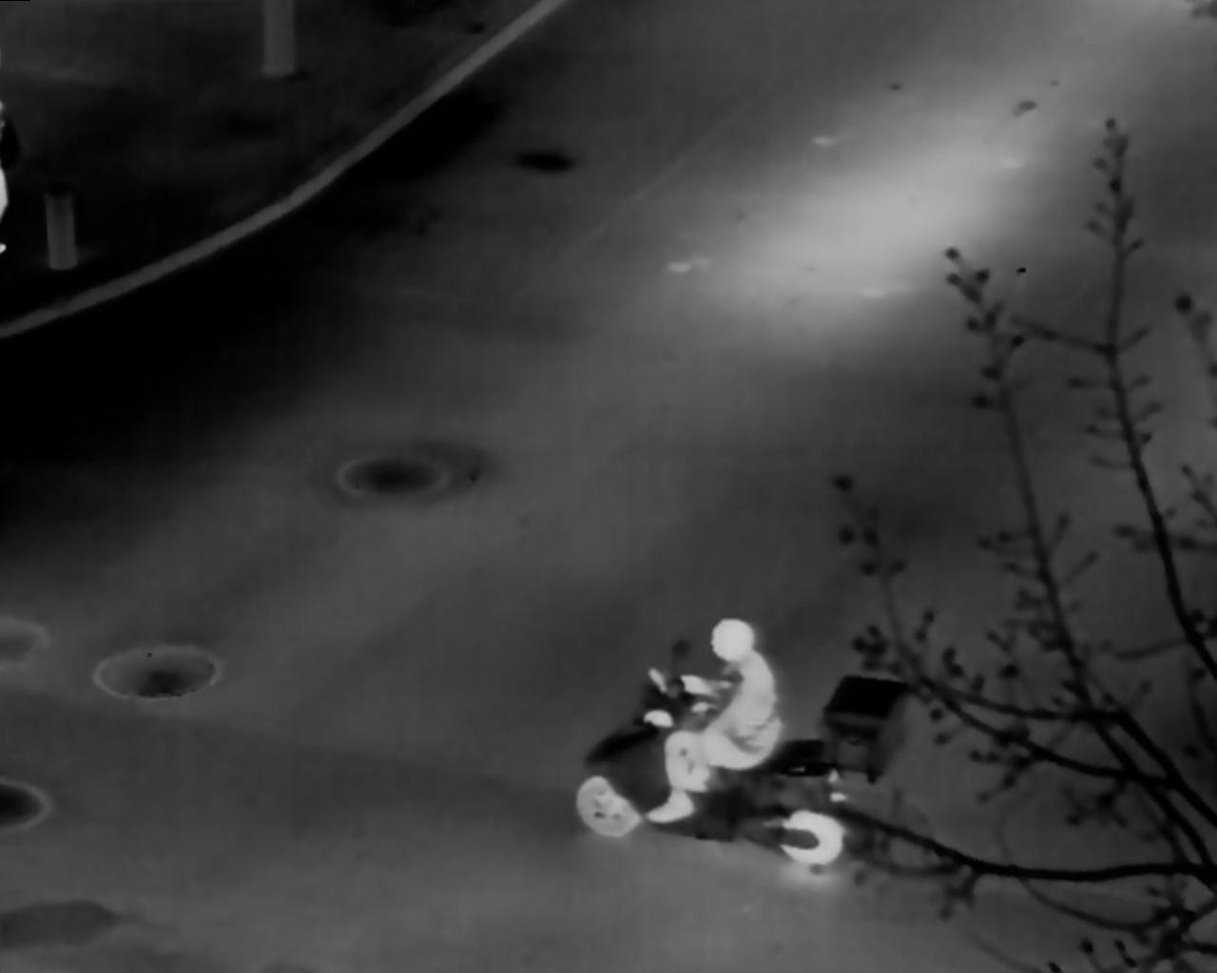person: (646, 618, 782, 822)
